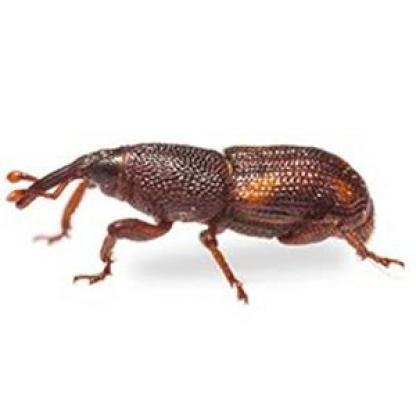rice-bug: (8, 140, 394, 283)
